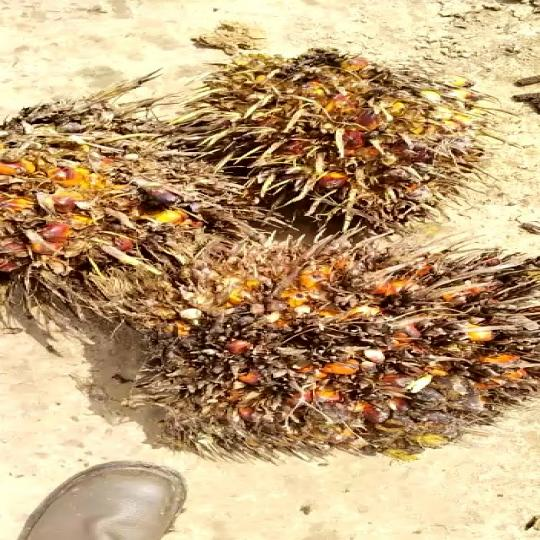terlalu masak: (104, 230, 540, 451), (171, 43, 510, 234), (0, 99, 280, 320)
